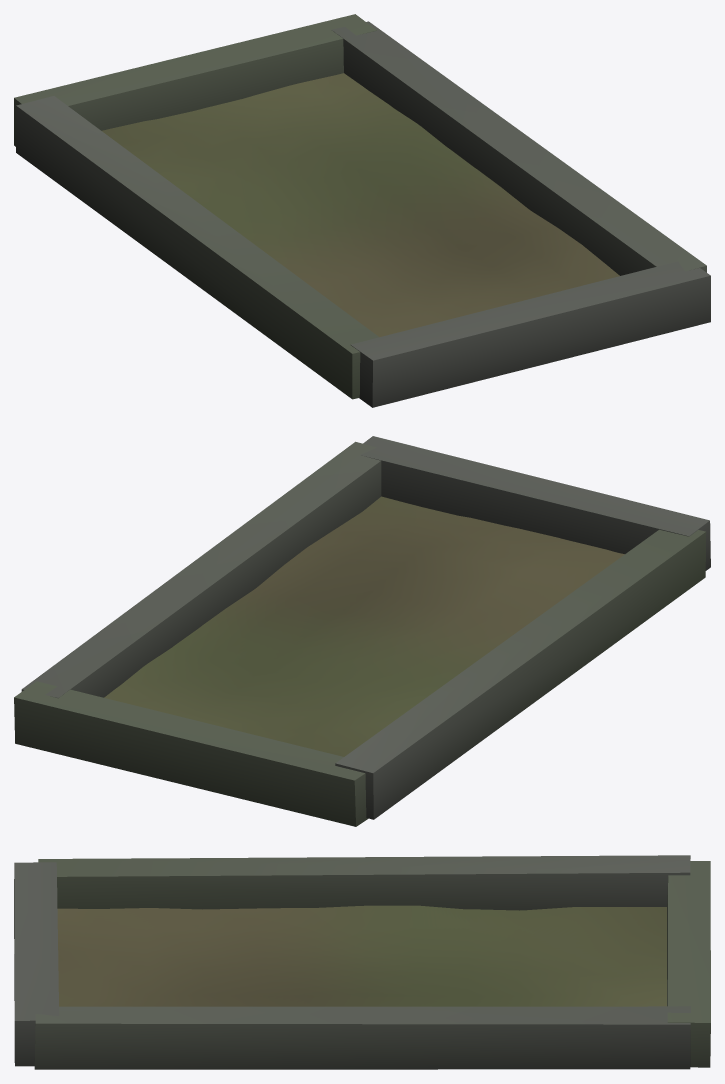
Rendered from ph_prop_grave_mound_sunken.glb.
3 views of the same model, one above another, from view 1: azimuth 30°, elevation 25°; view 2: azimuth 150°, elevation 25°; view 3: azimuth 270°, elevation 25° (orthographic). The views are drawn at different scales.
Parts seen in each view (by area): view 1: ph_prop_grave_mound_sunken; view 2: ph_prop_grave_mound_sunken; view 3: ph_prop_grave_mound_sunken.
Boxes of the visible parts, bbox=[...] form: ph_prop_grave_mound_sunken: bbox=[14, 14, 710, 407]; ph_prop_grave_mound_sunken: bbox=[14, 436, 710, 826]; ph_prop_grave_mound_sunken: bbox=[14, 855, 710, 1069].
Bounding box in the file's own units: 1.12 × 0.1534 × 1.97.
